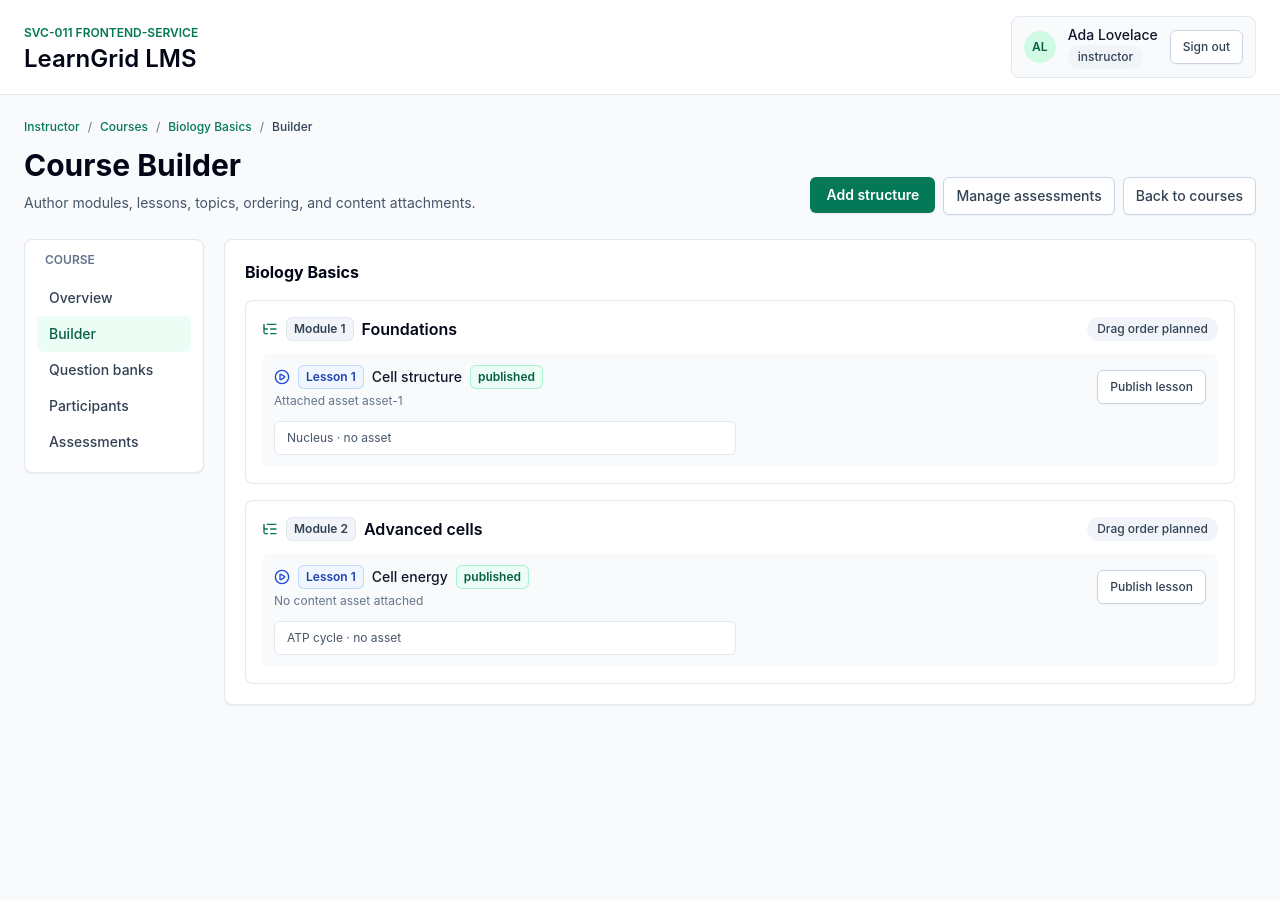
Test: instructor builder opens add structure modal with course-local navigation only
This screenshot has width=1280, height=900.
Expected: the heading "Course Builder" is shown, x1=24 y1=147 x2=241 y2=183
Expected: the navigation bar "Course" is shown, x1=24 y1=239 x2=204 y2=473
Click the button "Add structure" at (873, 195), box x1=810 y1=177 x2=935 y2=213
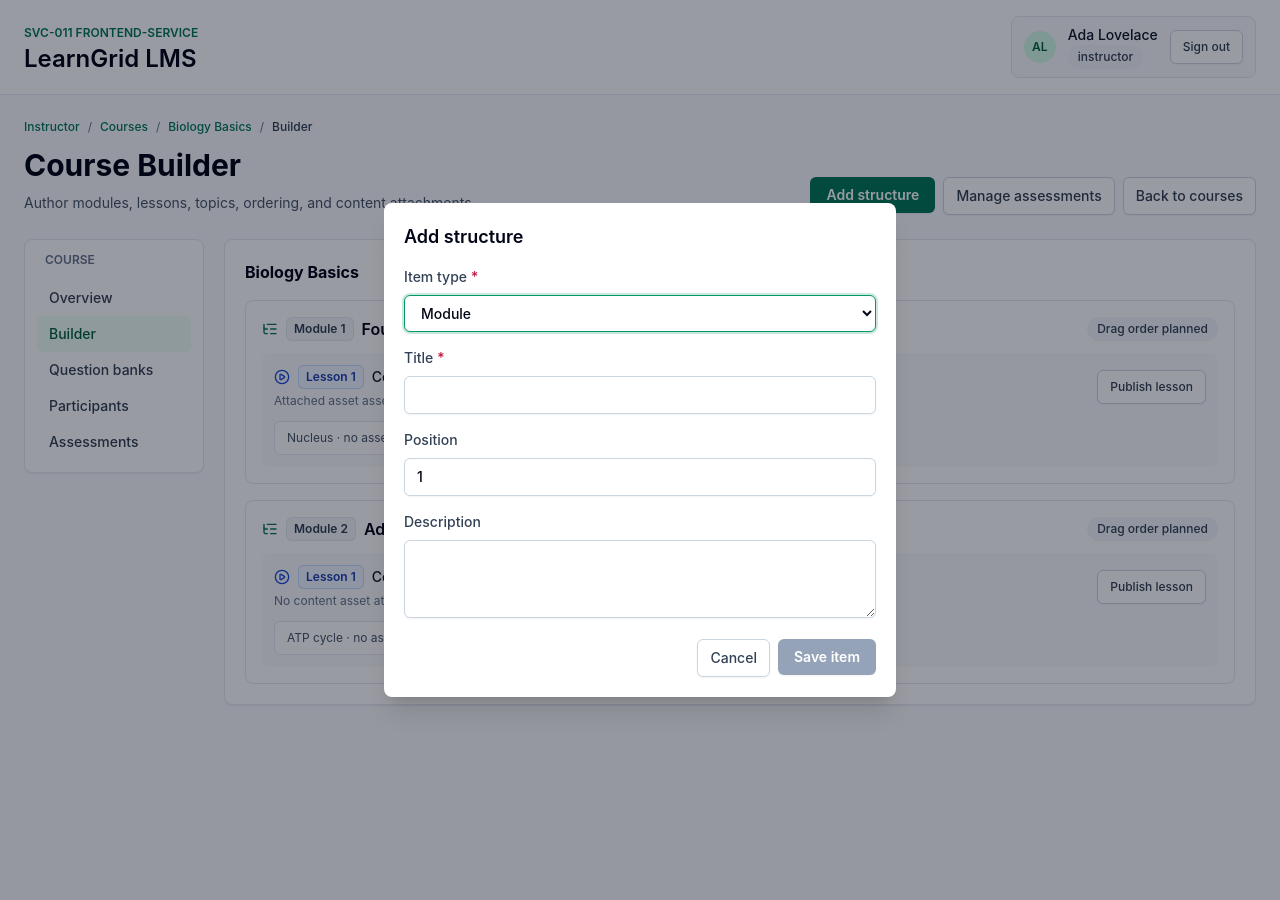
Expected: the dialog "Add structure" is shown
